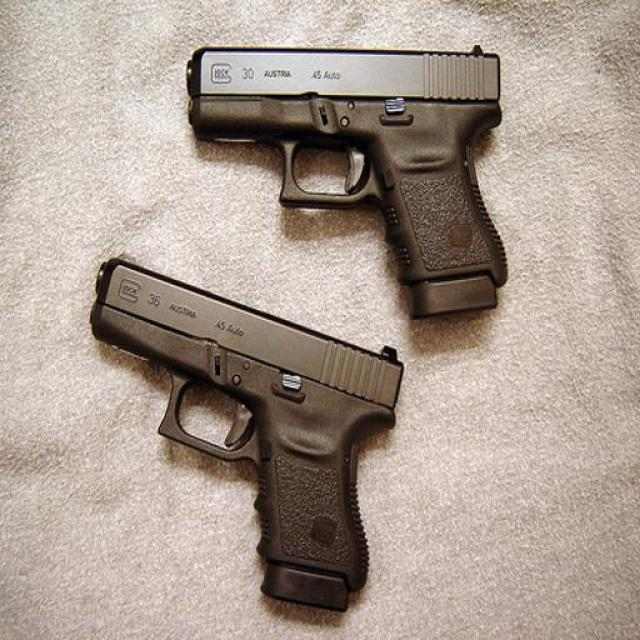pistol: (89, 251, 403, 613), (180, 42, 511, 316)
